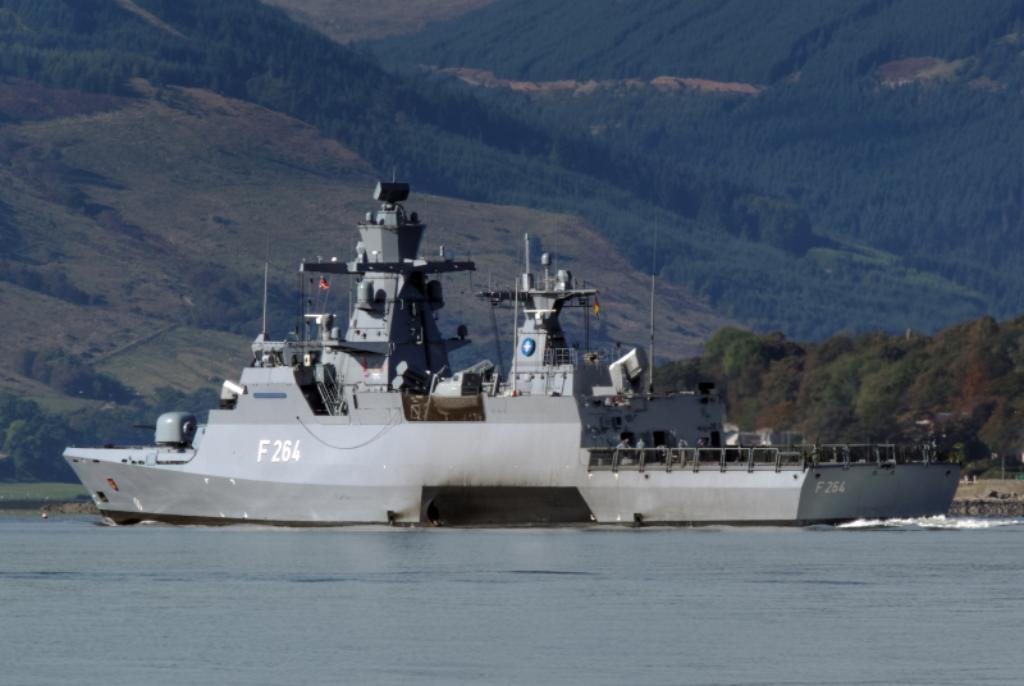Warship: (60, 162, 972, 530)
